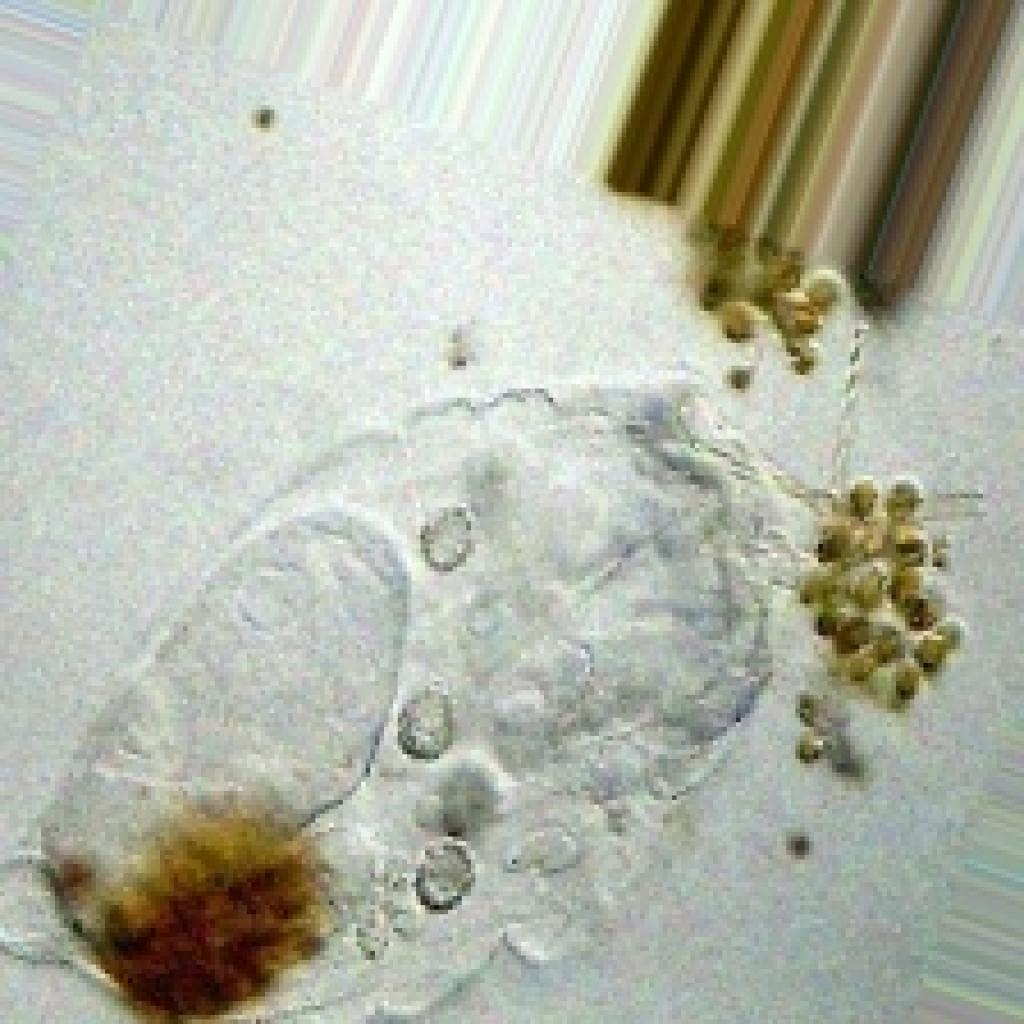Rotifer: (13, 208, 1024, 1024)
